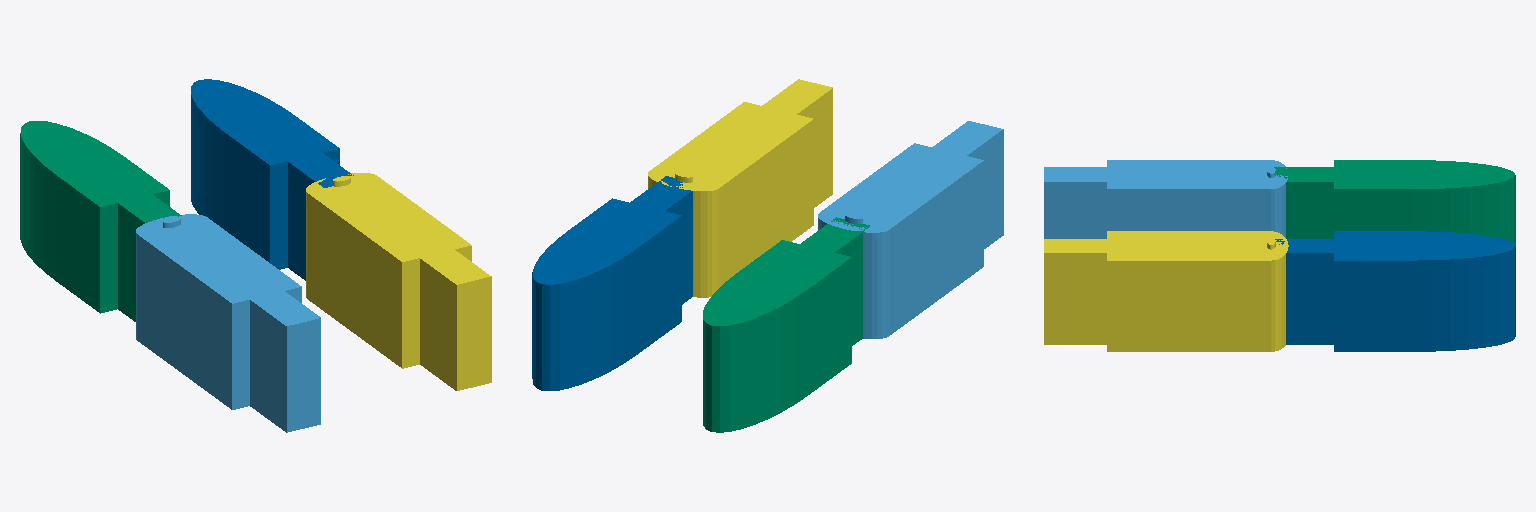
The robot description file, URDF, robot "2v2_mod":
<?xml version="1.0" ?>
<robot name="2v2_mod">

    <link name="body_palm_lpinvrpin">
        <visual>
            <origin rpy="0 1.5707963267948966 0" xyz="0 0 0"/>
            <geometry>
                <mesh filename="obj_files/body_palm_lpinvrpin.obj" scale="1 1 1"/>
            </geometry>
        </visual>
        <collision>
            <geometry>
                <mesh filename="obj_files/body_palm_lpinvrpin_collision.obj" scale="1 1 1"/>
            </geometry>
        </collision>
    </link>

    <joint name="l_proximal_pin" type="revolute">
        <parent link="body_palm_lpinvrpin"/>
        <child link="body_l_proximal_pinvpin"/>
        <origin rpy="0 0 0" xyz="-0.02675 0.053 0"/>
        <axis xyz="0 0 1"/>
        <limit effort="1000.0" lower="-3.14" upper="3.14" velocity="0.5"/>
    </joint>

    <link name="body_l_proximal_pinvpin">
        <visual>
            <origin rpy="0 1.5707963267948966 0" xyz="0 0 0"/>
            <geometry>
                <mesh filename="obj_files/body_l_proximal_pinvpin.obj" scale="1 1 1"/>
            </geometry>
        </visual>
        <collision>
            <geometry>
                <mesh filename="obj_files/body_l_proximal_pinvpin_collision.obj" scale="1 1 1"/>
            </geometry>
        </collision>
    </link>

    <joint name="l_distal_pin" type="revolute">
        <parent link="body_l_proximal_pinvpin"/>
        <child link="body_l_distal_pinvround"/>
        <origin rpy="0 0 0" xyz="0 0.072 0"/>
        <axis xyz="0 0 1"/>
        <limit effort="1000.0" lower="-3.14" upper="3.14" velocity="0.5"/>
    </joint>

    <link name="body_l_distal_pinvround">
        <visual>
            <origin rpy="0 1.5707963267948966 0" xyz="0 0 0"/>
            <geometry>
                <mesh filename="obj_files/body_l_distal_pinvround.obj" scale="1 1 1"/>
            </geometry>
        </visual>
        <collision>
            <geometry>
                <mesh filename="obj_files/body_l_distal_pinvround_collision.obj" scale="1 1 1"/>
            </geometry>
        </collision>
    </link>

    <joint name="r_proximal_pin" type="revolute">
        <parent link="body_palm_lpinvrpin"/>
        <child link="body_r_proximal_pinvpin"/>
        <origin rpy="0 0 0" xyz="0.02675 0.053 0"/>
        <axis xyz="0 0 1"/>
        <limit effort="1000.0" lower="-3.14" upper="3.14" velocity="0.5"/>
    </joint>

    <link name="body_r_proximal_pinvpin">
        <visual>
            <origin rpy="0 1.5707963267948966 0" xyz="0 0 0"/>
            <geometry>
                <mesh filename="obj_files/body_r_proximal_pinvpin.obj" scale="1 1 1"/>
            </geometry>
        </visual>
        <collision>
            <geometry>
                <mesh filename="obj_files/body_r_proximal_pinvpin_collision.obj" scale="1 1 1"/>
            </geometry>
        </collision>
    </link>

    <joint name="r_distal_pin" type="revolute">
        <parent link="body_r_proximal_pinvpin"/>
        <child link="body_r_distal_pinvround"/>
        <origin rpy="0 0 0" xyz="0 0.072 0"/>
        <axis xyz="0 0 1"/>
        <limit effort="1000.0" lower="-3.14" upper="3.14" velocity="0.5"/>
    </joint>

    <link name="body_r_distal_pinvround">
        <visual>
            <origin rpy="0 1.5707963267948966 0" xyz="0 0 0"/>
            <geometry>
                <mesh filename="obj_files/body_r_distal_pinvround.obj" scale="1 1 1"/>
            </geometry>
        </visual>
        <collision>
            <geometry>
                <mesh filename="obj_files/body_r_distal_pinvround_collision.obj" scale="1 1 1"/>
            </geometry>
        </collision>
    </link>

</robot>

--- What the picture shows (computed from the rendered views, not written in the file) ---
The picture shows the robot from 3 angles, left to right: view 1: azimuth 30°, elevation 25°; view 2: azimuth 150°, elevation 25°; view 3: azimuth 270°, elevation 25°; orthographic projection.
Model 2v2_mod with 5 links and 4 joints (4 revolute), rooted at body_palm_lpinvrpin, posed all joints at 0.
Visible links, largest first — view 1: body_l_proximal_pinvpin, body_r_proximal_pinvpin, body_l_distal_pinvround, body_r_distal_pinvround; view 2: body_r_distal_pinvround, body_l_distal_pinvround, body_l_proximal_pinvpin, body_r_proximal_pinvpin; view 3: body_r_proximal_pinvpin, body_r_distal_pinvround, body_l_proximal_pinvpin, body_l_distal_pinvround.
Boxes of the visible links, x1,y1,x2,y2 form: body_l_proximal_pinvpin: (136,214,320,432); body_r_proximal_pinvpin: (306,173,491,390); body_l_distal_pinvround: (20,121,181,321); body_r_distal_pinvround: (191,79,353,280); body_r_distal_pinvround: (532,176,692,390); body_l_distal_pinvround: (703,217,869,432); body_l_proximal_pinvpin: (818,121,1003,338); body_r_proximal_pinvpin: (648,79,832,297); body_r_proximal_pinvpin: (1044,231,1288,351); body_r_distal_pinvround: (1275,231,1515,351); body_l_proximal_pinvpin: (1044,160,1287,238); body_l_distal_pinvround: (1274,160,1515,245).
Size in the robot's own frame: 0.0755 by 0.1495 by 0.0352 metres.
Meshes: 5 distinct files referenced, 4 mesh visuals loaded (4 OBJ); not drawn: 1 (reference not matched to a file when rendering).